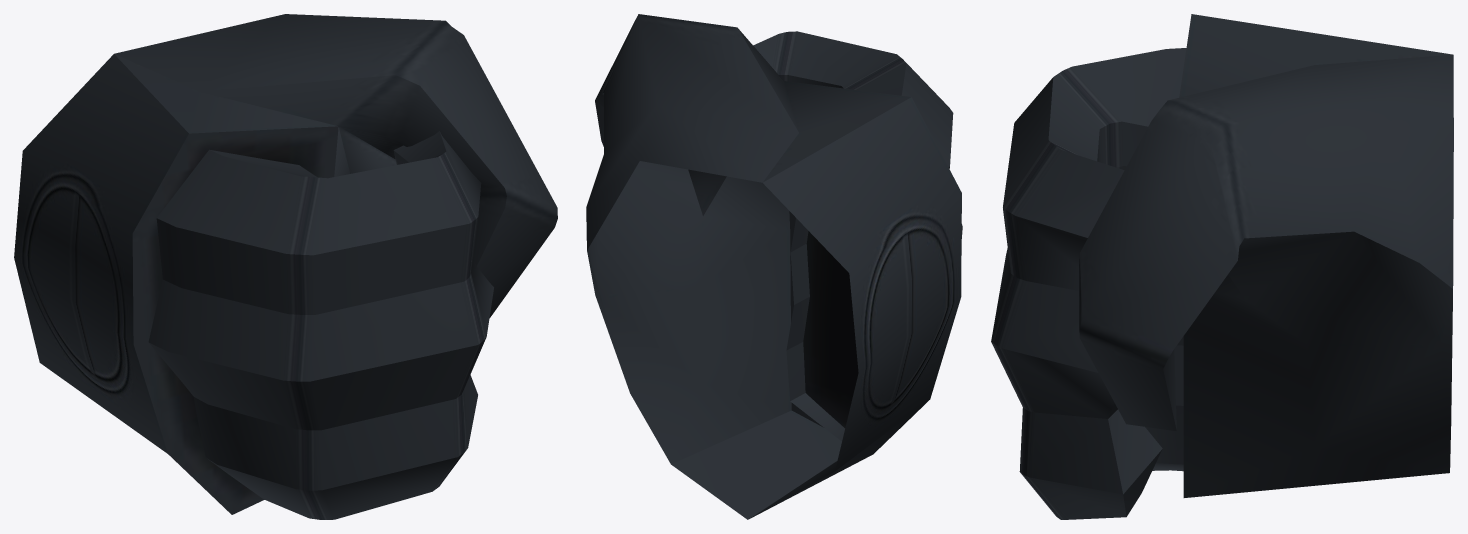
Rendered from Assist_jixiebi03.FBX.
3 views of the same model, side by side, from view 1: azimuth 30°, elevation 25°; view 2: azimuth 150°, elevation 25°; view 3: azimuth 270°, elevation 25° (orthographic). The views are drawn at different scales.
Visible parts, largest first — view 1: Weapon_jixiebi03; view 2: Weapon_jixiebi03; view 3: Weapon_jixiebi03.
Part boxes in pixels (x1,y1,x2,y2): Weapon_jixiebi03: [14, 14, 557, 519]; Weapon_jixiebi03: [586, 14, 962, 519]; Weapon_jixiebi03: [991, 14, 1453, 519].
Size of the model in its own units: 1.13 by 1.16 by 1.02.
1 material, 1 textured.
